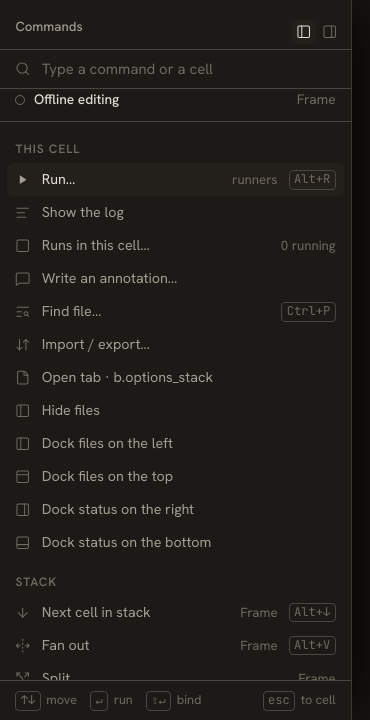
CommandPane › filters on label and meta, then on description alone, bolds the match, and says when nothing matches (K01, CP-2)
Type "fan" into the dropdown labelled "command" at (189,69), box [42,50,336,88]
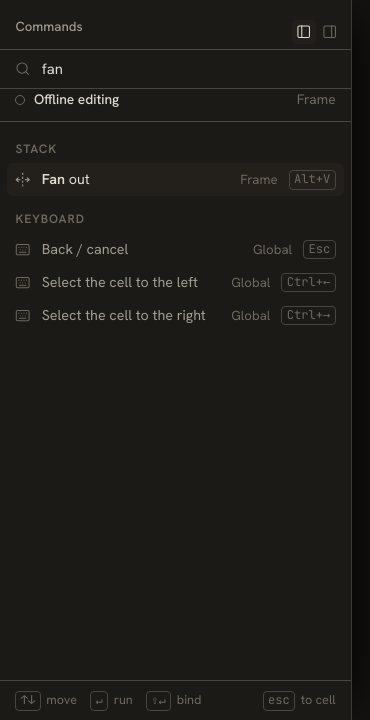
Expected: the text "Fan" is shown, [42,170,65,188]
Replace the text in the dropdown named "command" with "title editor" at (189,69), box [42,50,336,88]
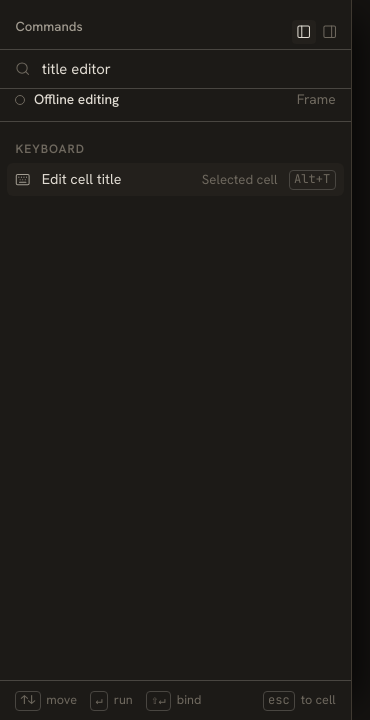
Replace the text in the dropdown named "command" with "options" at (189,69), box [42,50,336,88]
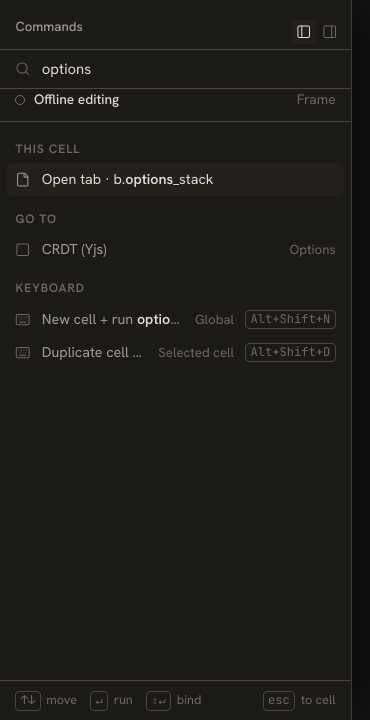
Replace the text in the dropdown named "command" with "zzz" at (189,69), box [42,50,336,88]
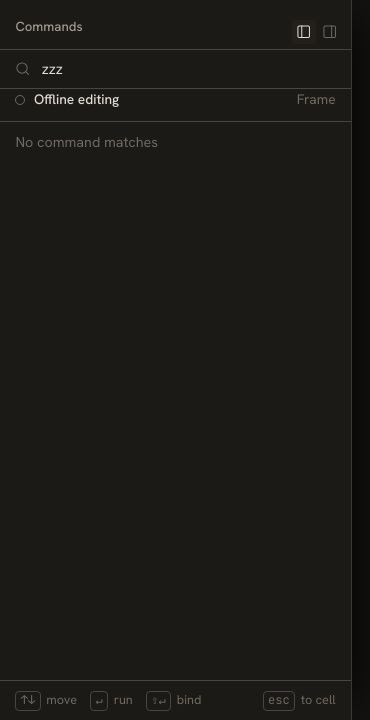
Result: the text "No command matches" is shown at [15,133,158,151]
